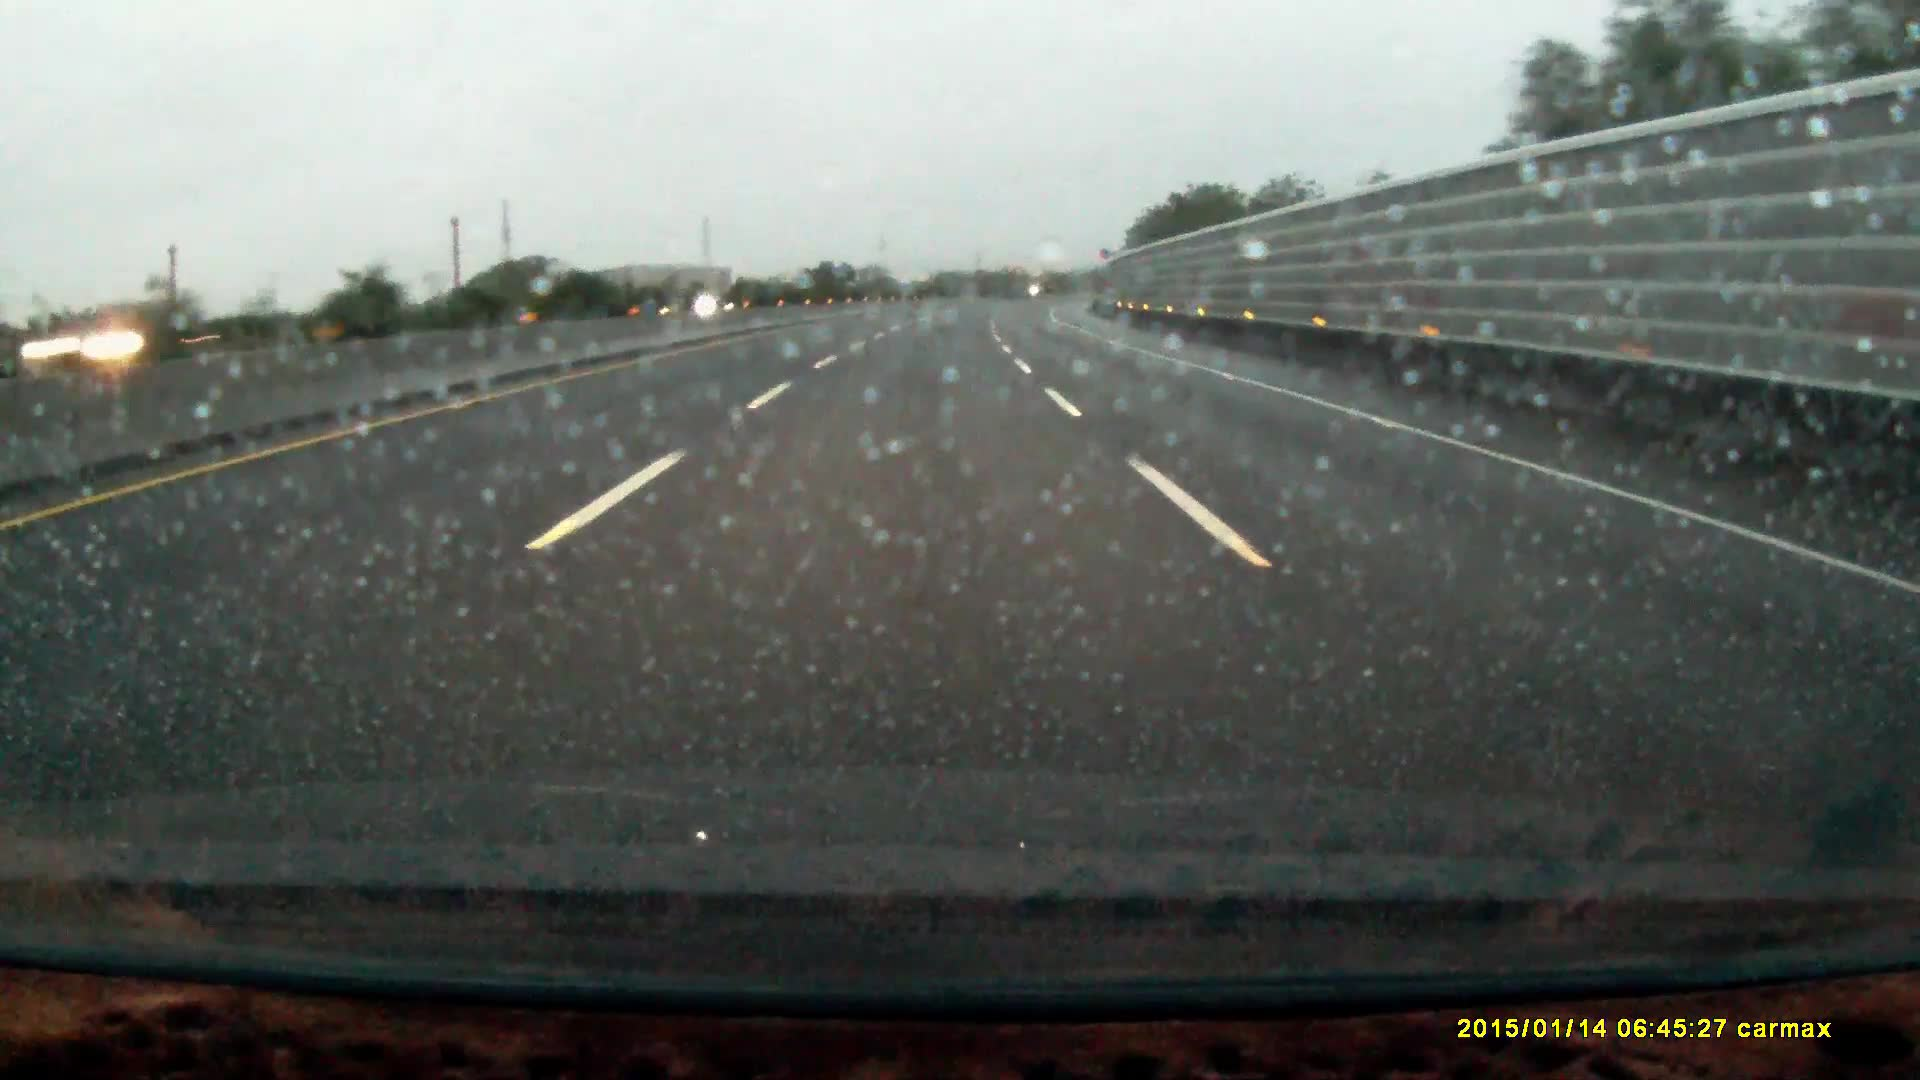vehicle: (680, 287, 736, 311)
